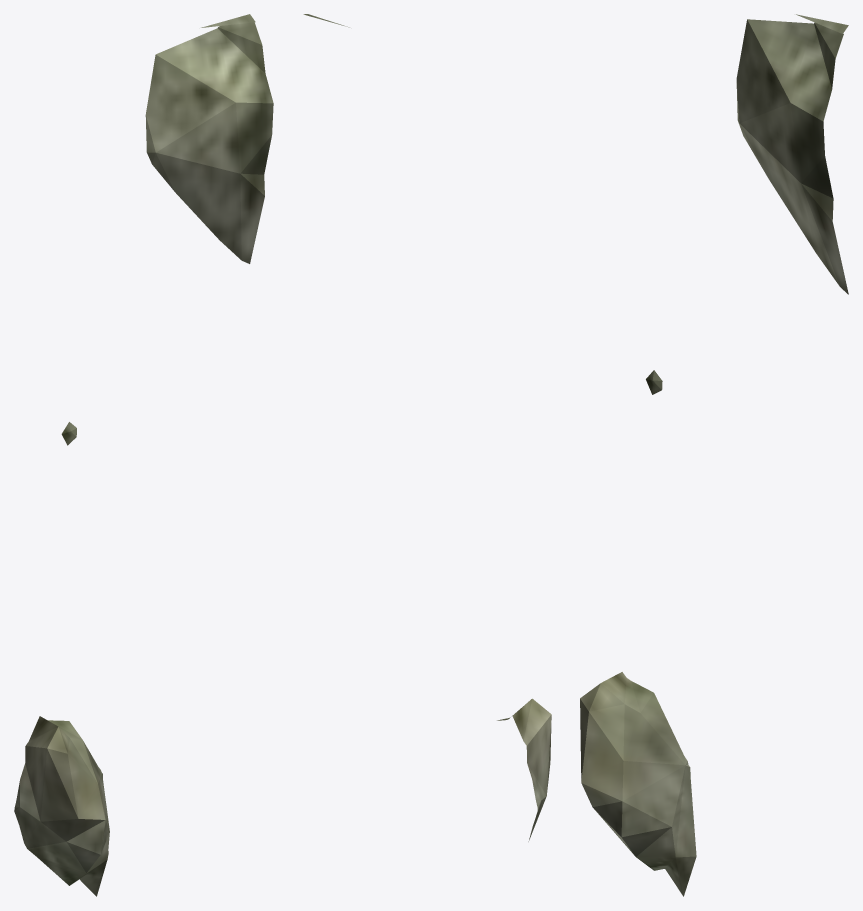
The picture shows the model from 3 angles, left to right: view 1: azimuth 30°, elevation 25°; view 2: azimuth 150°, elevation 25°; view 3: azimuth 330°, elevation 25°; orthographic projection. The views are drawn at different scales.
Size of the model in its own units: 1.22 by 4.18 by 0.3437.
1 material, 1 textured.
